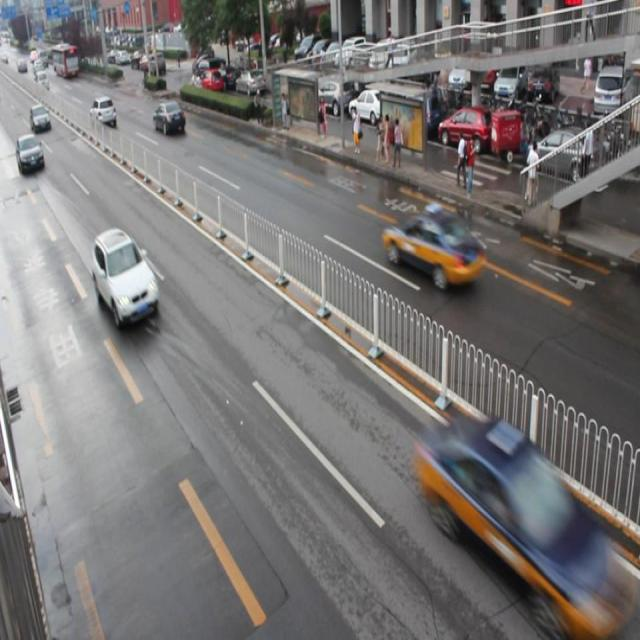car: (422, 415, 596, 617), (382, 206, 485, 289), (92, 226, 159, 325), (153, 99, 186, 137)
